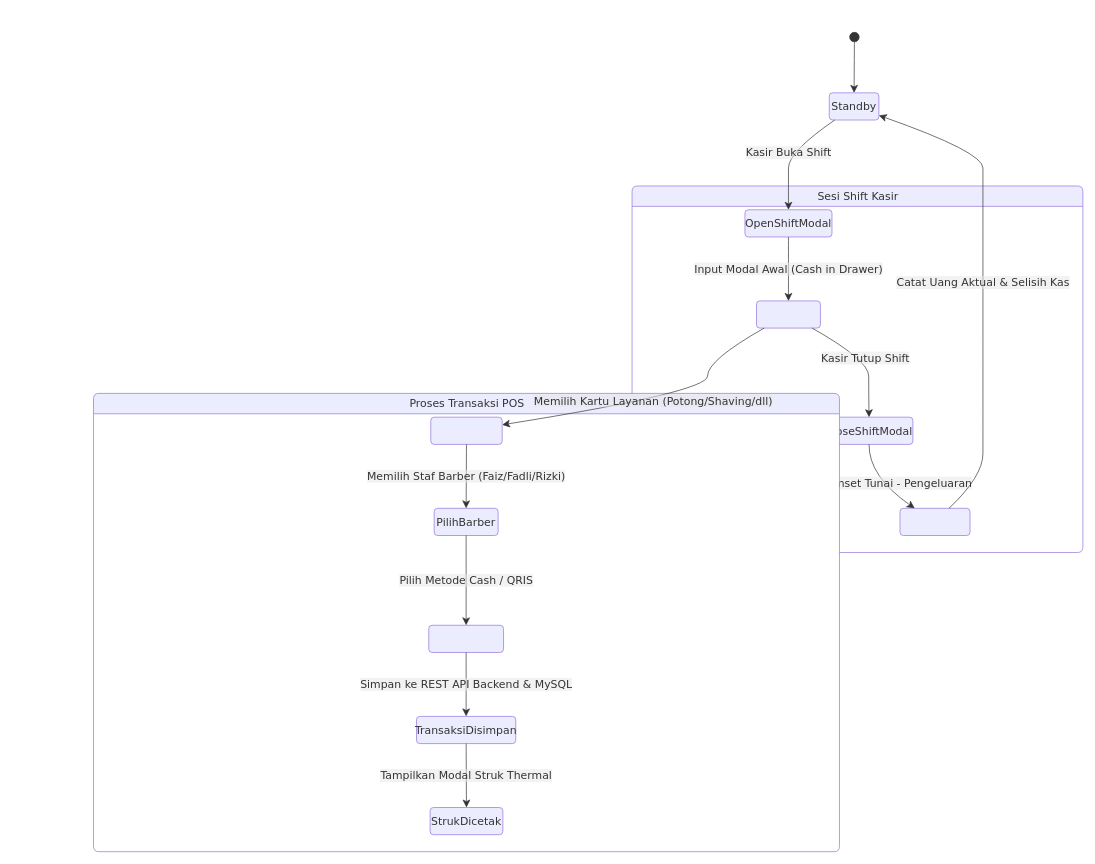
Some shapes in this 1095 by 864 pixel diagram are drawn without their labels. The centre of each missing label's shape, as x and y in pixels:
PilihLayanan: the point at 466,430
Rekapitulasi: the point at 934,522
ShiftActive: the point at 788,314
ValidasiBayar: the point at 466,638
